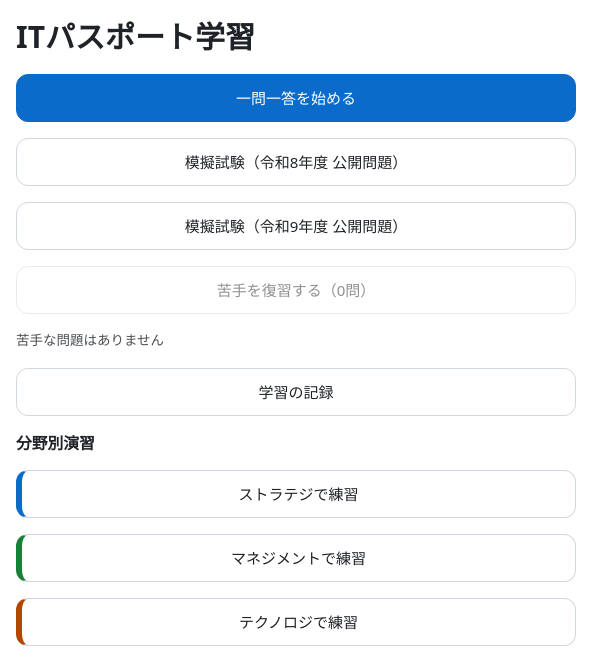
Test: 過去問の模擬試験の結果と履歴 › 「もう一度」を押すと、同じ回が最初の問題から始まる
Click the button "模擬試験（令和8年度 公開問題）". click: (296, 162)
box: [16,138,576,186]
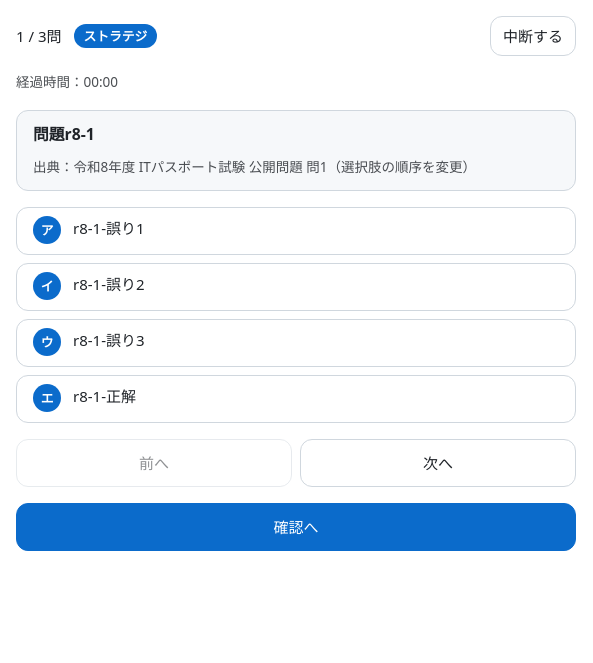
Click the button "次へ". click: (438, 463)
box: [300,439,576,487]
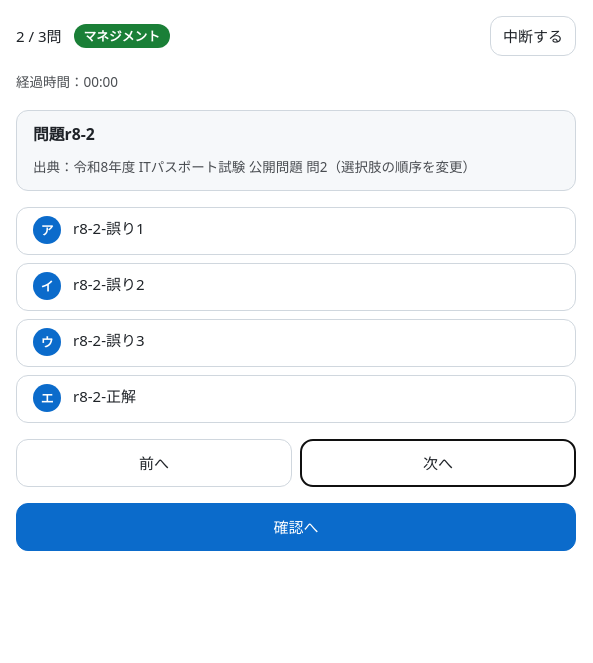
Click the button "確認へ". click: (296, 527)
box: [16,503,576,551]
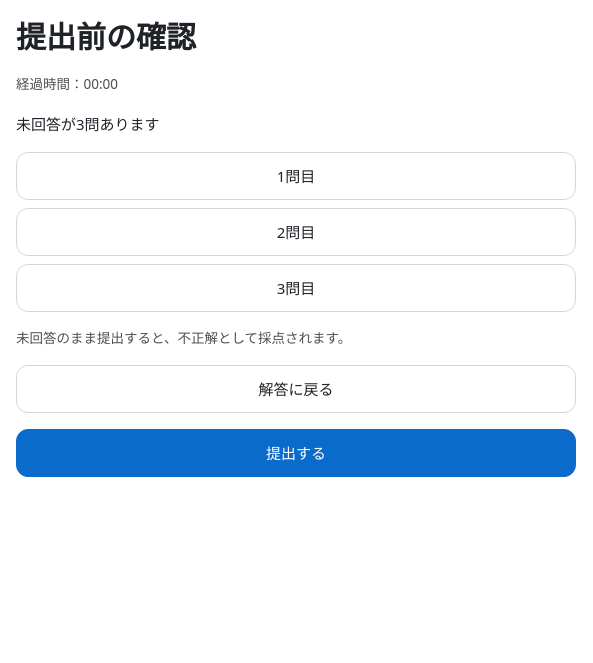
Click the button "提出する". click: (296, 453)
box: [16,429,576,477]
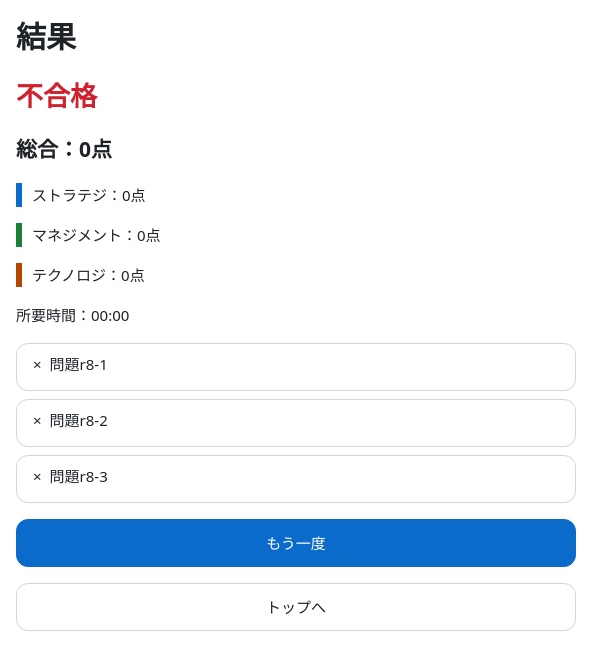
Click the button "もう一度". click: (296, 543)
box: [16,519,576,567]
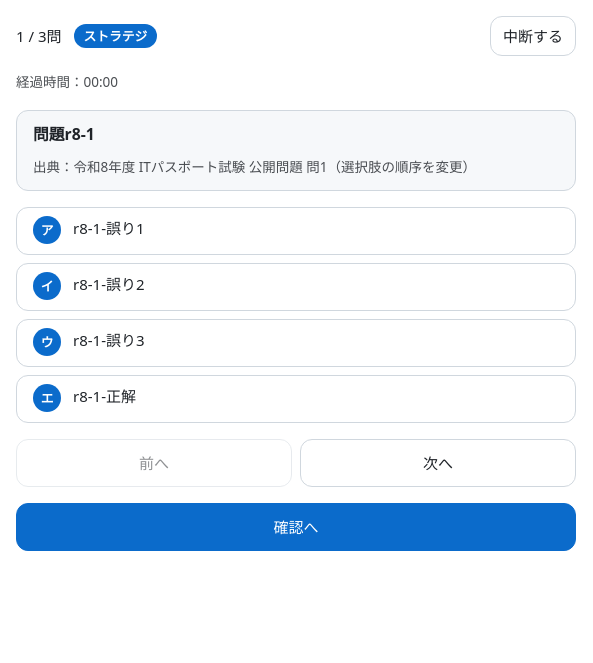
Result: the heading reads "問題r8-1" at [33,123,95,145]
Result: the text "1 / 3問" is shown at [16,24,62,48]
